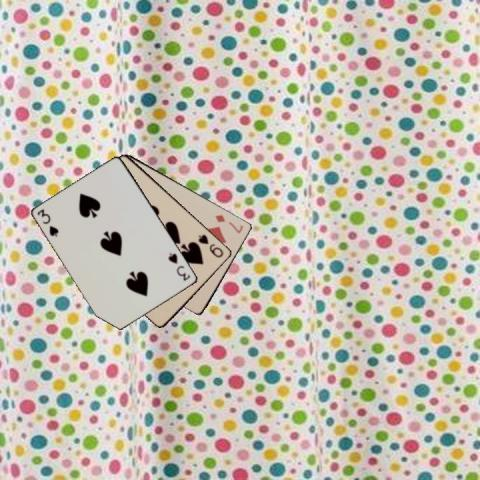3s: (165, 250, 192, 282), (34, 206, 60, 238)
7d: (212, 211, 244, 235)
9s: (196, 232, 226, 260)
